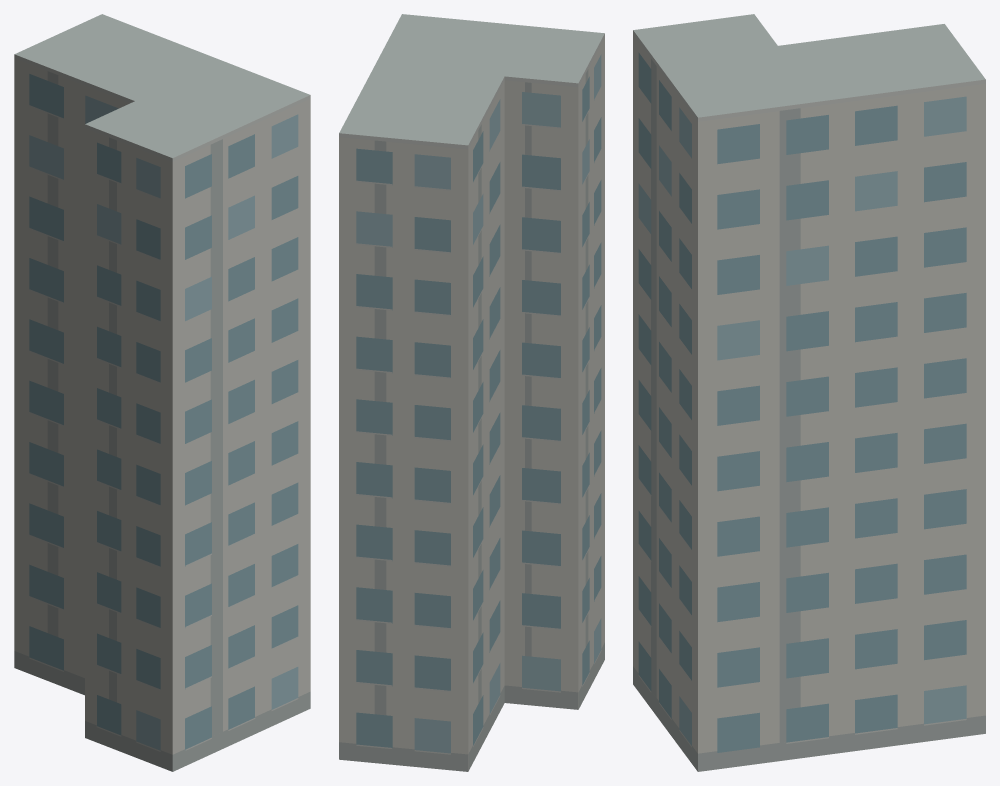
File: residential-e4fb361d-2fd7-4a93-814f-59cce37aa29b.glb
3 renders of one model, left to right at view 1: azimuth 30°, elevation 25°; view 2: azimuth 150°, elevation 25°; view 3: azimuth 270°, elevation 25°, orthographic. The views are drawn at different scales.
Parts seen in each view (by area): view 1: residential-e4fb361d-2fd7-4a93-814f-59cce37aa29b.tmp; view 2: residential-e4fb361d-2fd7-4a93-814f-59cce37aa29b.tmp; view 3: residential-e4fb361d-2fd7-4a93-814f-59cce37aa29b.tmp.
Part boxes in pixels (x1=…): residential-e4fb361d-2fd7-4a93-814f-59cce37aa29b.tmp: x1=14, y1=14, x2=310, y2=771; residential-e4fb361d-2fd7-4a93-814f-59cce37aa29b.tmp: x1=339, y1=14, x2=604, y2=771; residential-e4fb361d-2fd7-4a93-814f-59cce37aa29b.tmp: x1=633, y1=14, x2=985, y2=771.
Size of the model in its own units: 13.26 by 39 by 19.07.
